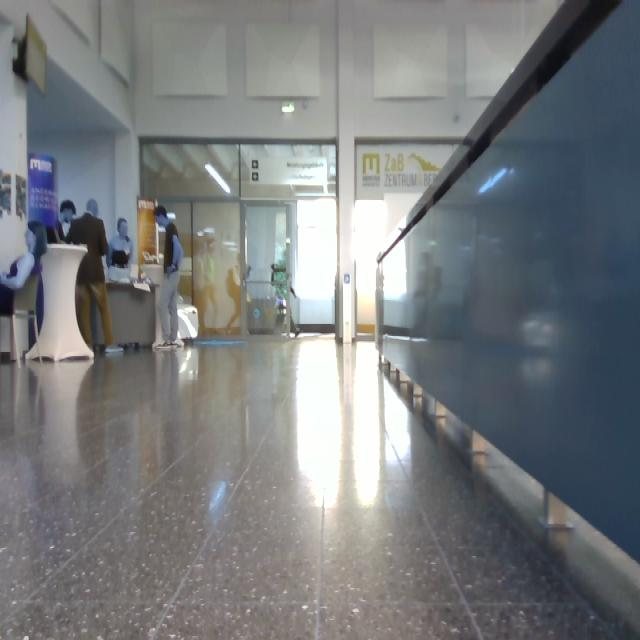banner: (36, 156, 65, 229)
chair: (1, 277, 48, 361)
desk: (113, 282, 161, 346)
door: (250, 206, 298, 334), (198, 205, 243, 334), (294, 200, 337, 332)
light bulb: (211, 164, 235, 194), (286, 105, 297, 116), (1, 269, 10, 281)
person: (75, 204, 119, 345), (1, 225, 57, 314), (161, 208, 191, 345), (206, 254, 229, 332), (113, 221, 139, 281), (251, 249, 269, 333), (61, 204, 84, 245)
pillar: (341, 1, 360, 341)
staircase: (377, 1, 640, 640)
table: (37, 248, 100, 361)
tiled floor: (1, 336, 640, 640)
